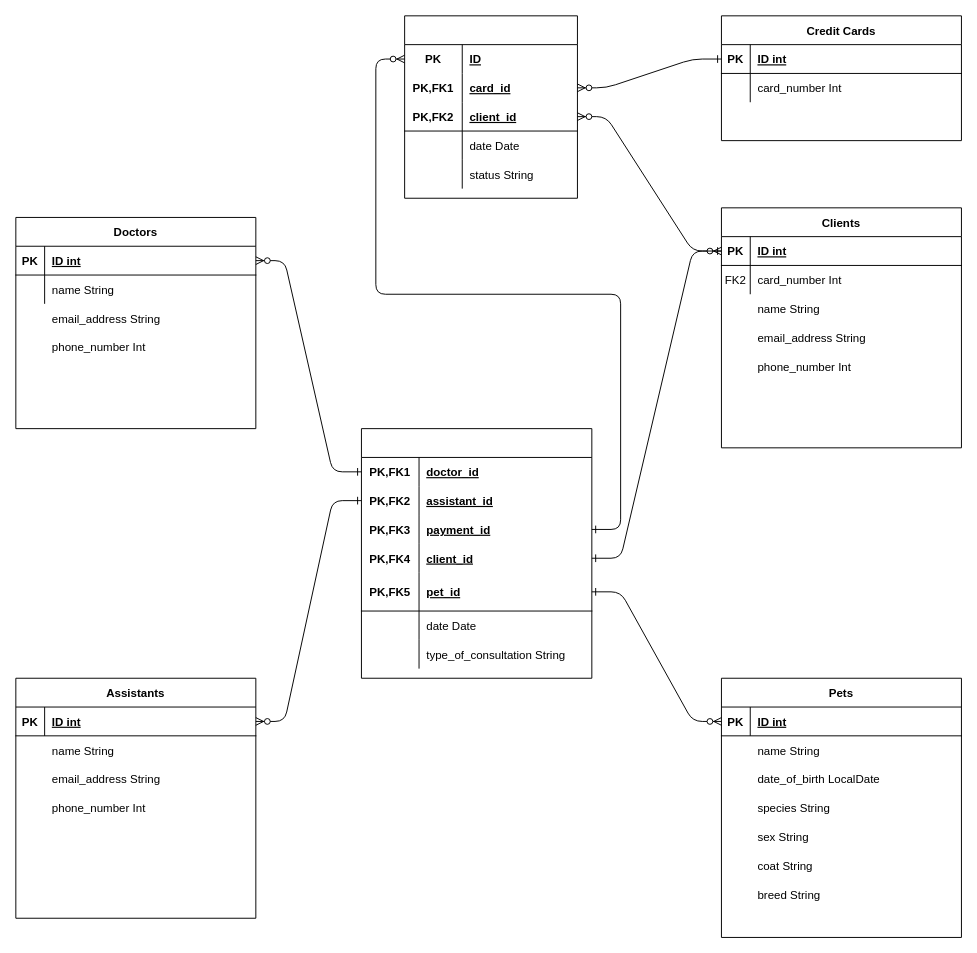
This 977x953 diagram has some shape labels left out. The box of each missing label's shape, as (x1, y1, x2, y2) in pixels:
Consultation_Payments: (360, 428, 592, 678)
Payments: (404, 15, 577, 198)
